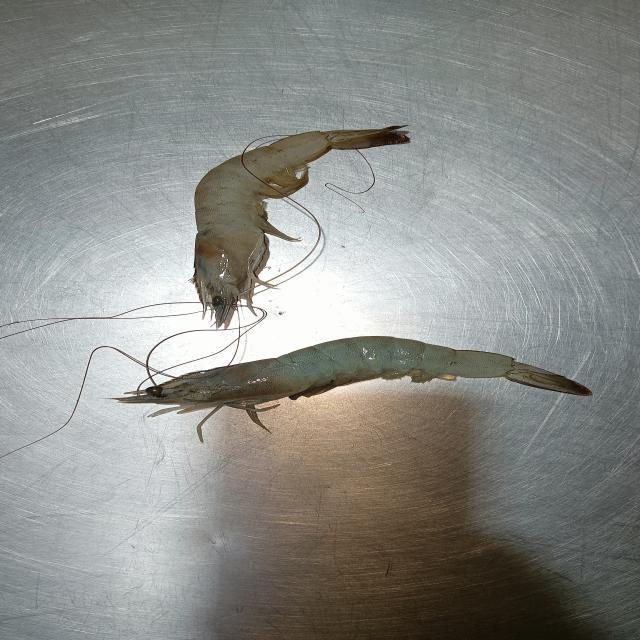shrimp: (194, 127, 408, 327), (116, 335, 593, 406)
